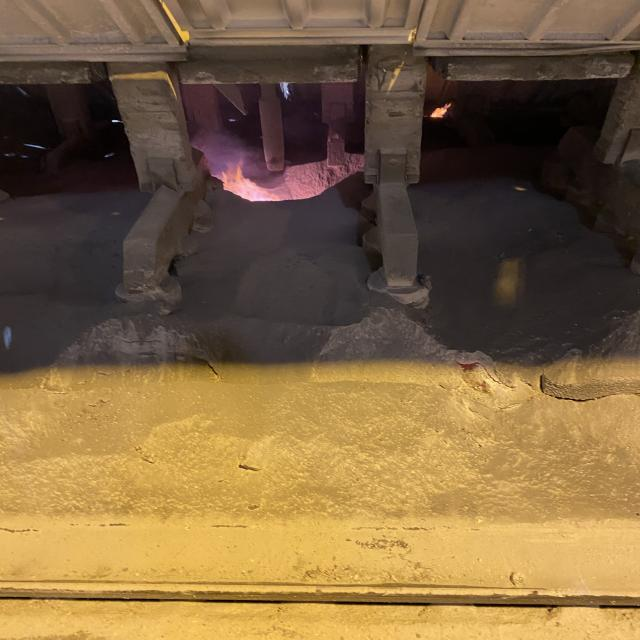Blackspot: (542, 376, 640, 401)
Redspot: (457, 362, 479, 367)
